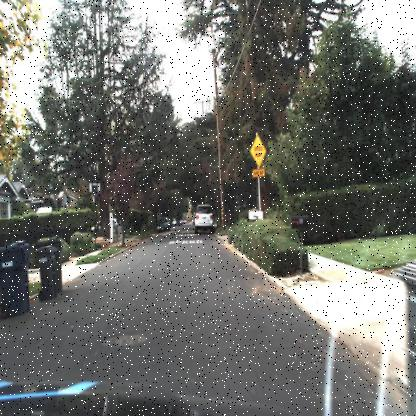car: (191, 202, 216, 233), (154, 215, 172, 236)
